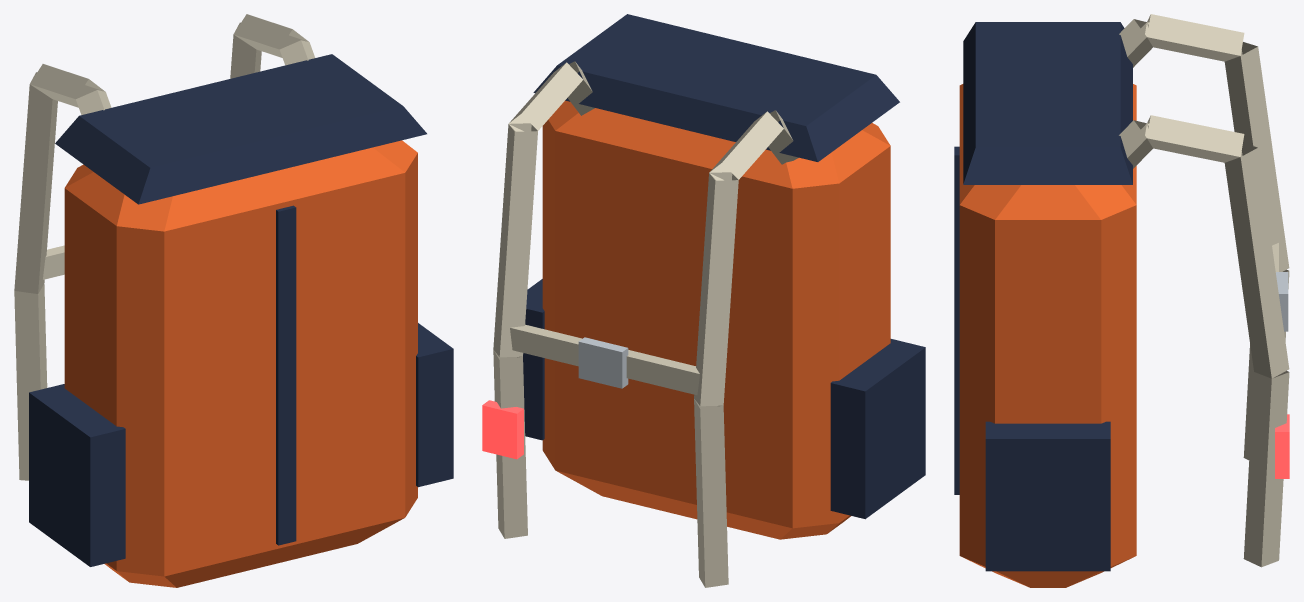
File: parachute_pack.glb
3 views of the same model, side by side, from view 1: azimuth 30°, elevation 25°; view 2: azimuth 150°, elevation 25°; view 3: azimuth 270°, elevation 25° (orthographic). The views are drawn at different scales.
Visible parts, largest first — view 1: Body; view 2: Body; view 3: Body.
Part boxes in pixels (x1,y1,x2,y2): Body: (14, 14, 453, 587); Body: (482, 14, 925, 587); Body: (954, 14, 1289, 587).
Size of the model in its own units: 0.41 by 0.4916 by 0.322.
